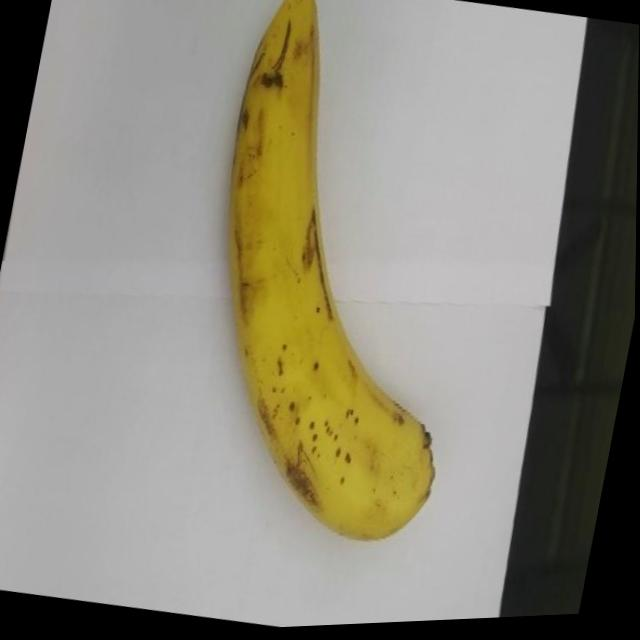Banana: (156, 0, 526, 565)
